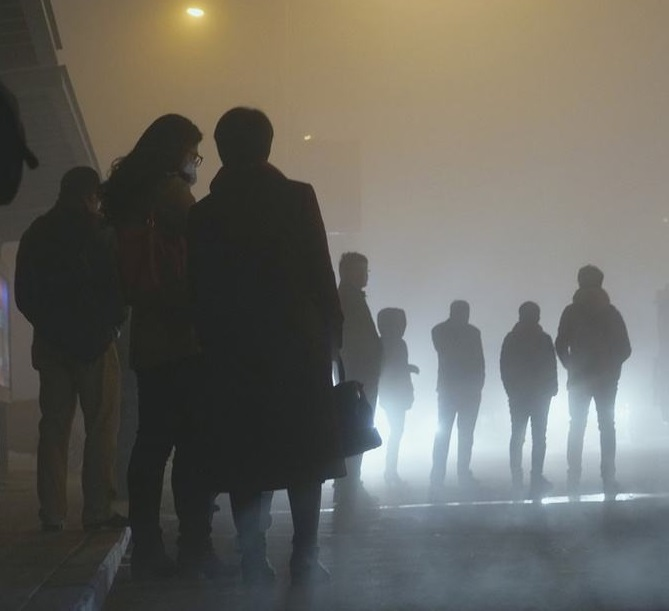person: (184, 106, 386, 591), (97, 108, 235, 580), (15, 161, 136, 536), (553, 261, 639, 501), (331, 246, 383, 516), (426, 295, 490, 502), (496, 299, 561, 498), (372, 301, 418, 505)
